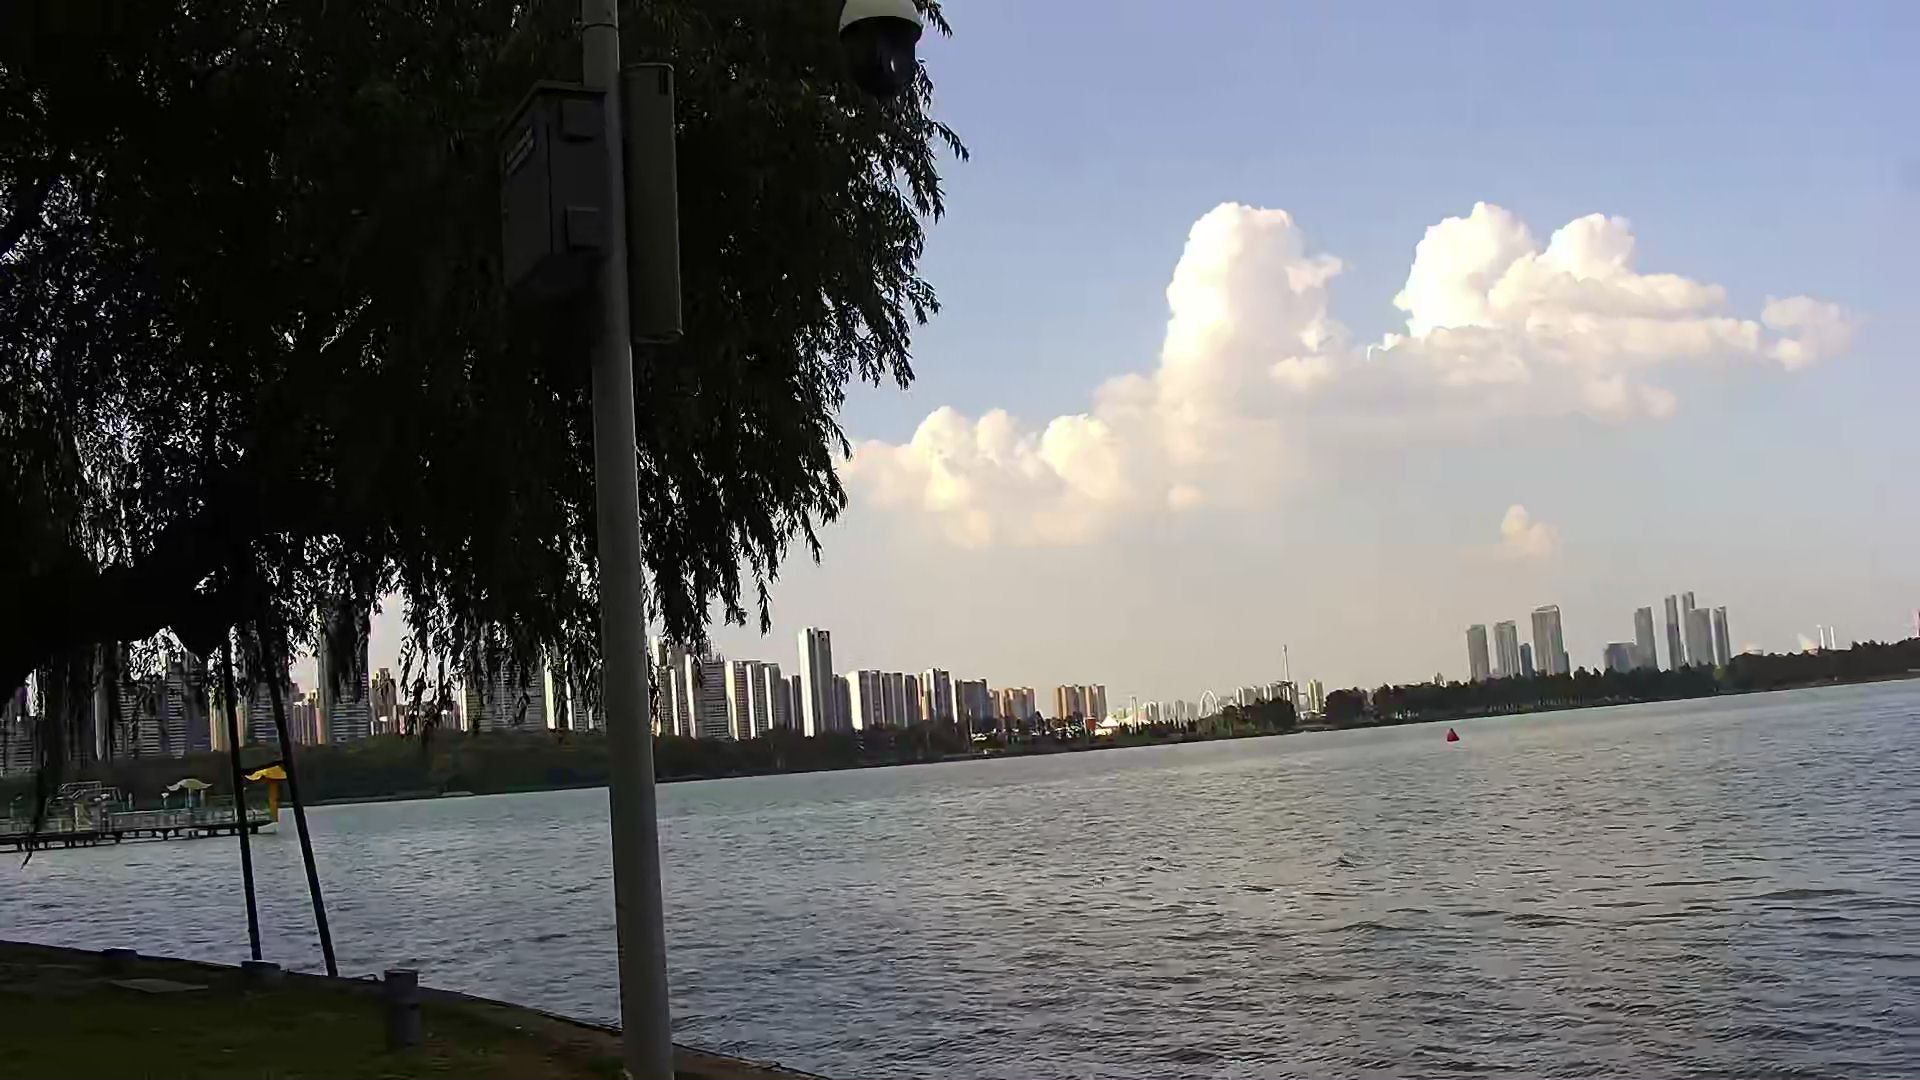harbor: (1, 770, 281, 853)
rubbish: (1444, 727, 1458, 745)
